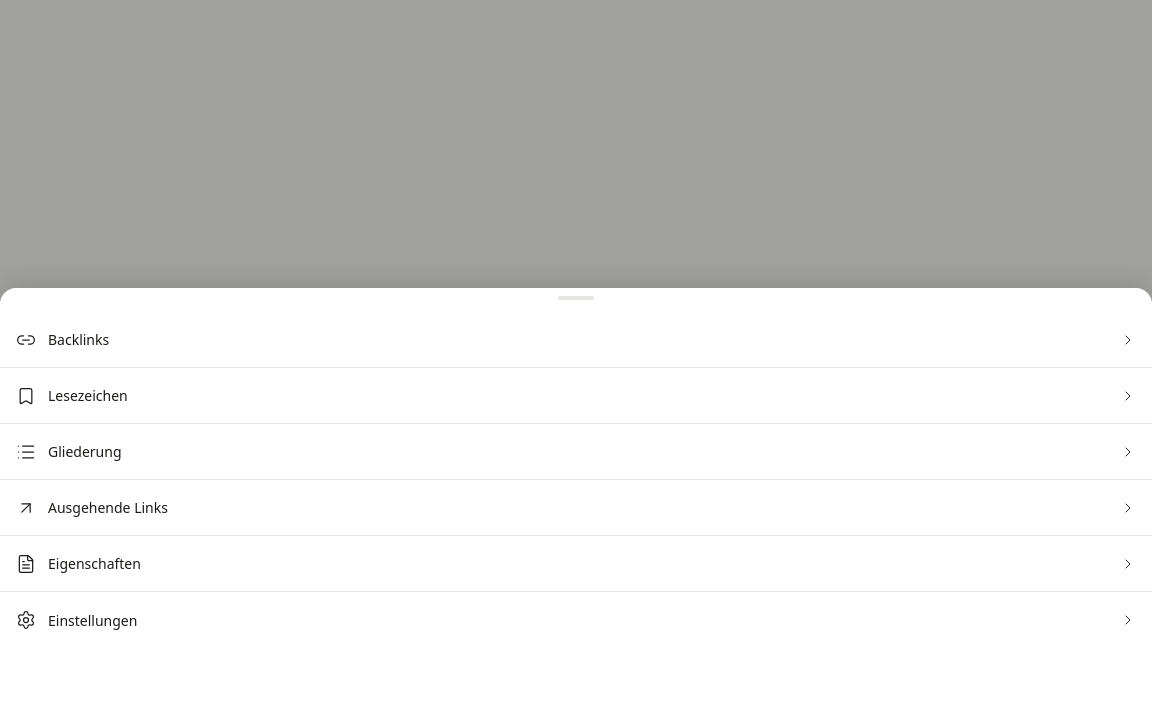
Test: MobileBurgerSheet (#397) › clicking the outline row routes to a panel view labelled 'Gliederung'
This screenshot has width=1152, height=720.
Click the menu item "Gliederung" at (85, 452), box [0, 424, 1151, 480]
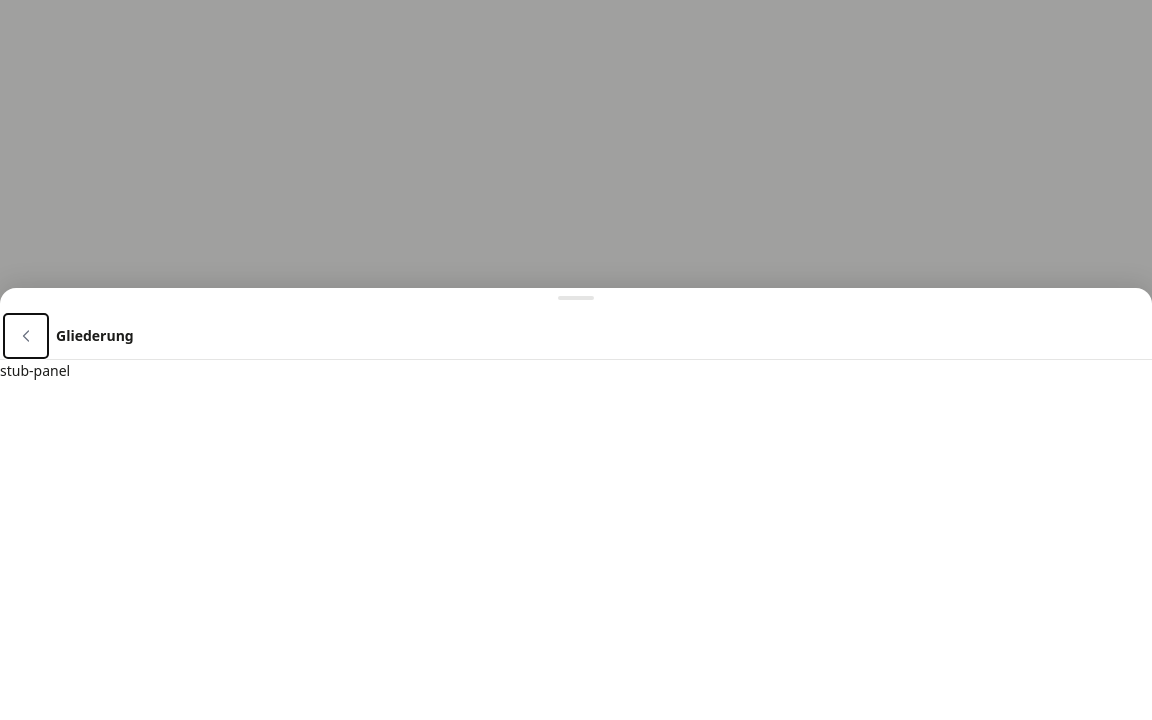
Expected: the text "stub-panel" is shown, [0, 361, 70, 380]
